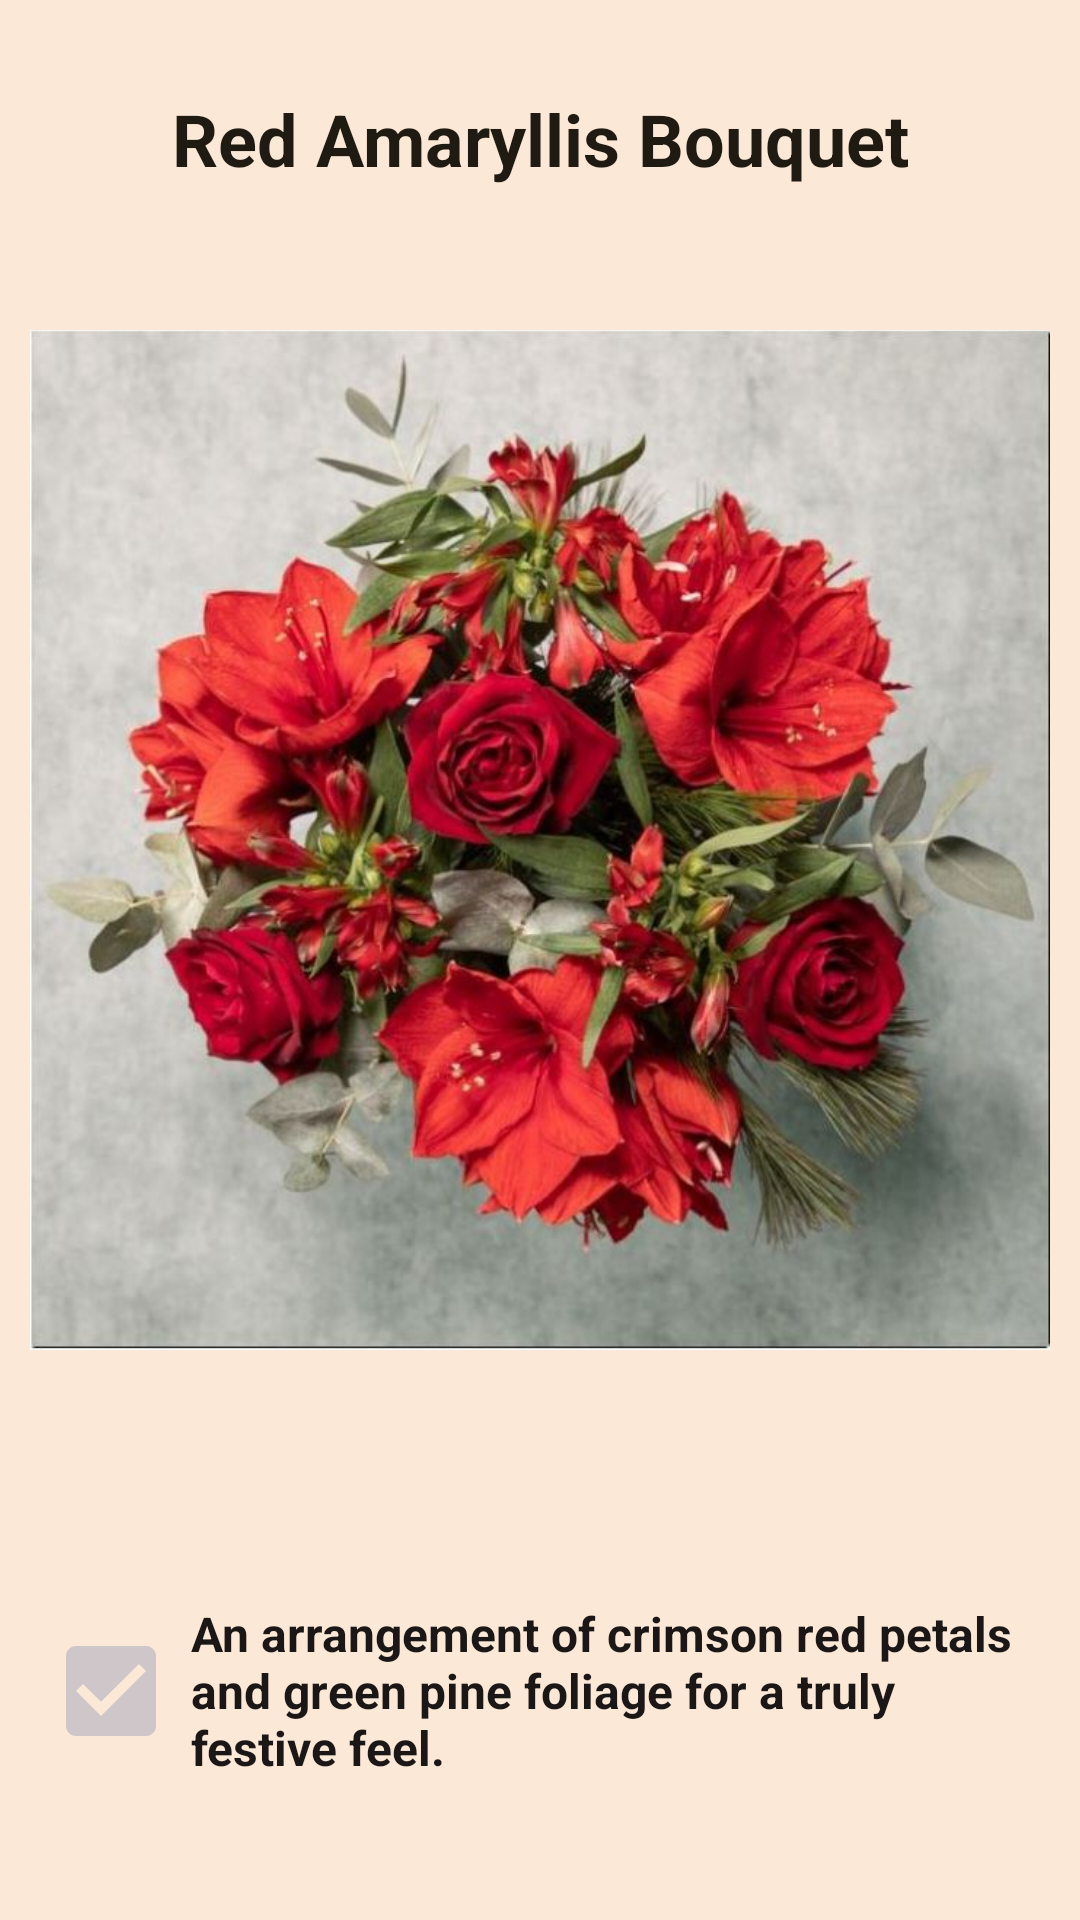

Icon bounding boxes for this 1080px x 1920px phone screenshot, format (x1, y1, x2, y2):
check false: (66, 1646, 156, 1736)
